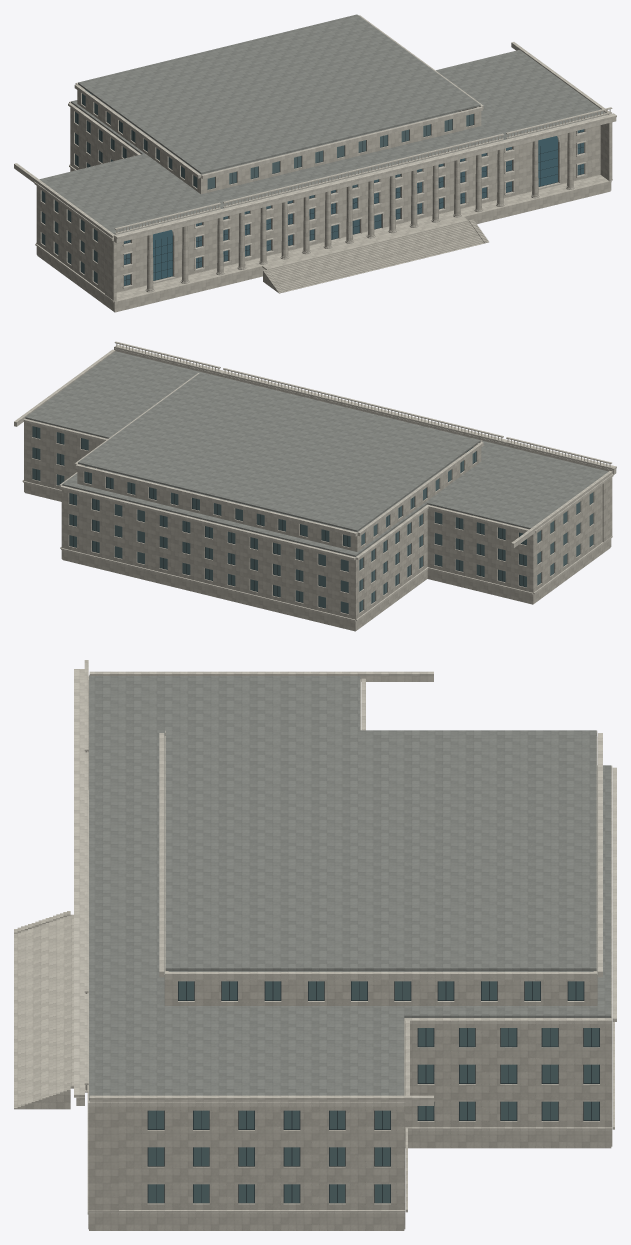
The picture shows the model from 3 angles, top to bottom: view 1: azimuth 30°, elevation 25°; view 2: azimuth 150°, elevation 25°; view 3: azimuth 270°, elevation 25°; orthographic projection. The views are drawn at different scales.
Visible parts, largest first — view 1: library__roof, library__stone, library__trim, library__stair-main, library__sideglass, library__glass, library__frame, library__archglass, library__threshold-main; view 2: library__roof, library__stone, library__trim, library__sideglass, library__frame; view 3: library__roof, library__stone, library__trim, library__sideglass, library__stair-main, library__frame.
Boxes of the visible parts, box(x1,y1,x2,y2) form: library__roof: box(39, 14, 607, 234); library__stone: box(36, 85, 612, 312); library__trim: box(14, 15, 616, 302); library__stair-main: box(268, 221, 484, 292); library__sideglass: box(41, 89, 473, 283); library__glass: box(124, 129, 583, 285); library__frame: box(42, 104, 584, 285); library__archglass: box(153, 136, 558, 280); library__threshold-main: box(262, 217, 468, 269); library__roof: box(25, 351, 608, 556); library__stone: box(24, 419, 612, 631); library__trim: box(14, 341, 616, 621); library__sideglass: box(32, 426, 593, 613); library__frame: box(32, 426, 592, 613); library__roof: box(89, 675, 611, 1100); library__stone: box(14, 678, 612, 1230); library__trim: box(74, 660, 616, 1213); library__sideglass: box(148, 981, 599, 1202); library__stair-main: box(14, 915, 70, 1104); library__frame: box(147, 981, 599, 1203).
Bounding box in the file's own units: 115 × 21.3 × 68.27.
7 materials, 3 textured.
